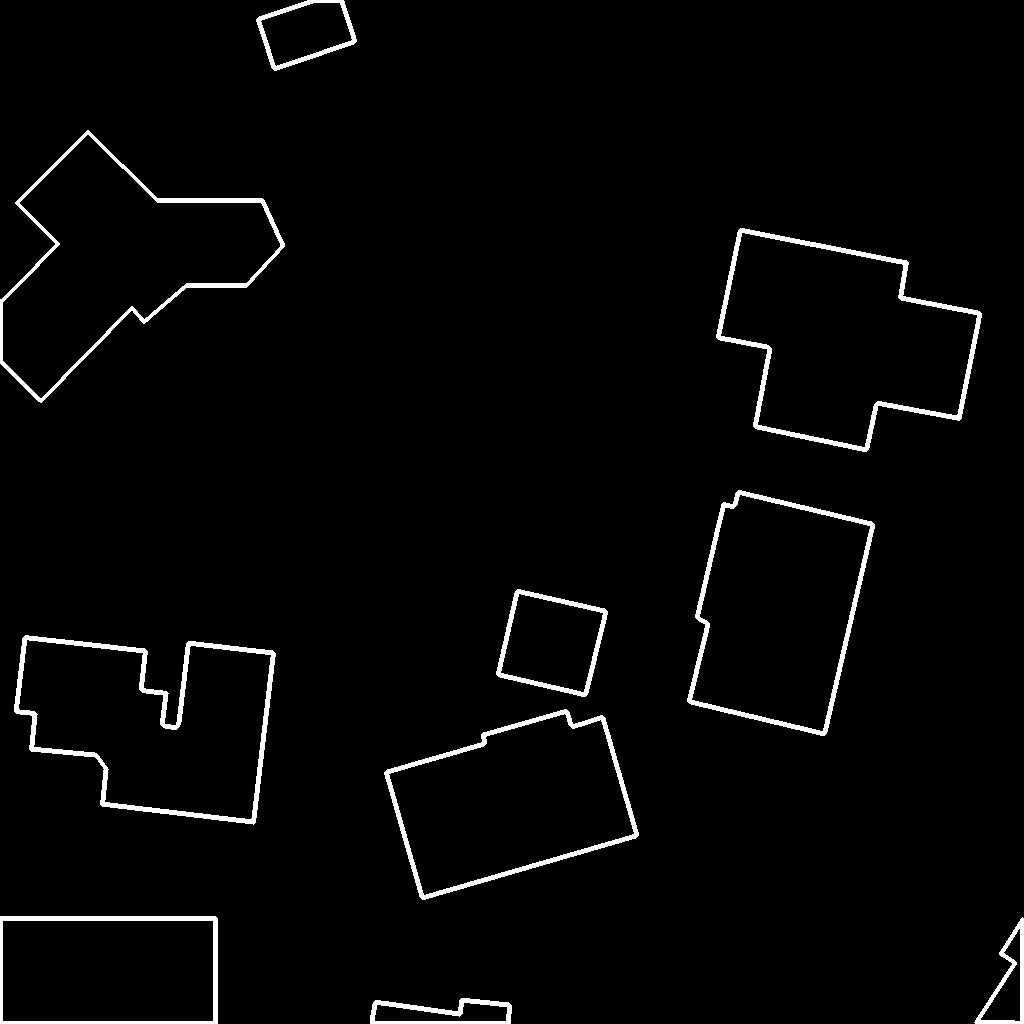building: (0, 132, 284, 402), (718, 230, 981, 451), (16, 637, 275, 823), (386, 711, 638, 899), (689, 492, 874, 735), (0, 918, 217, 1024), (498, 591, 607, 696), (258, 0, 356, 70), (976, 919, 1024, 1024), (372, 1000, 511, 1024)
